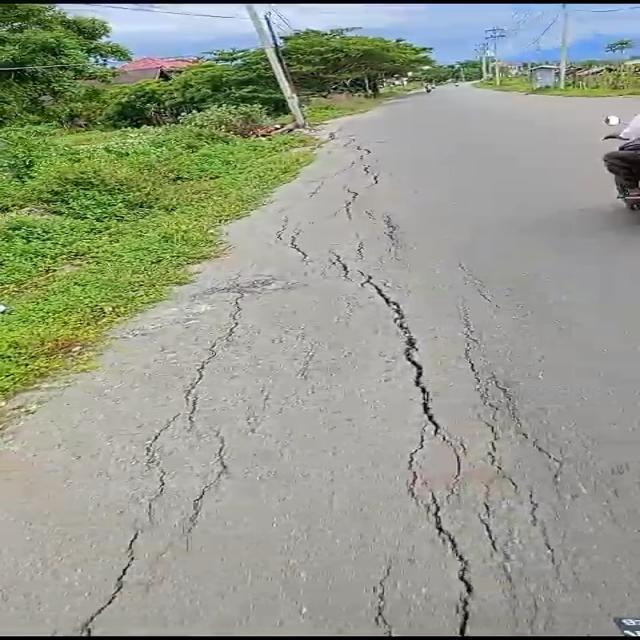Memanjang: (57, 282, 262, 636), (350, 270, 469, 468), (409, 484, 482, 640)
